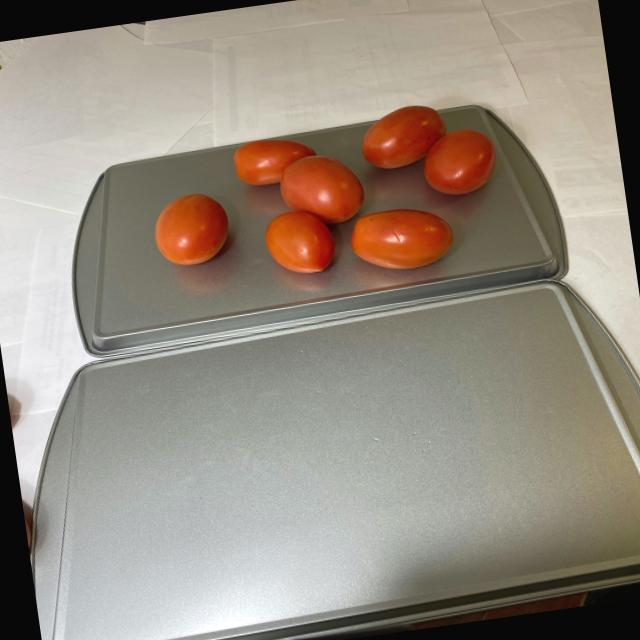tomato: (131, 94, 517, 311)
